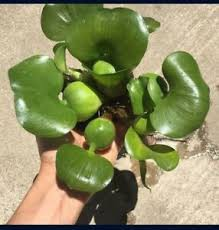water_hyacinth: (11, 4, 211, 192)
